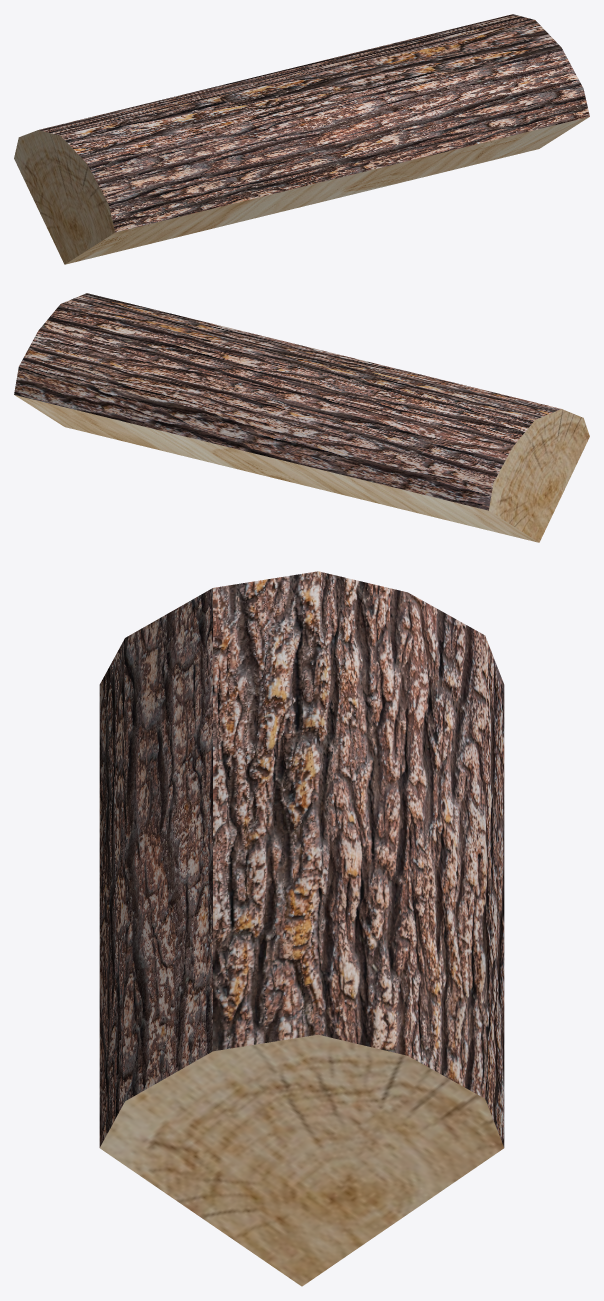
File: firewood.fbx
The picture shows the model from 3 angles, top to bottom: view 1: azimuth 30°, elevation 25°; view 2: azimuth 150°, elevation 25°; view 3: azimuth 270°, elevation 25°; orthographic projection. The views are drawn at different scales.
Visible parts, largest first — view 1: Cube; view 2: Cube; view 3: Cube.
Boxes of the visible parts, x1,y1,x2,y2 form: Cube: (14, 14, 589, 264); Cube: (14, 293, 589, 542); Cube: (99, 571, 504, 1286).
Bounding box in the file's own units: 542 × 137 × 200.
1 material, 1 textured.
